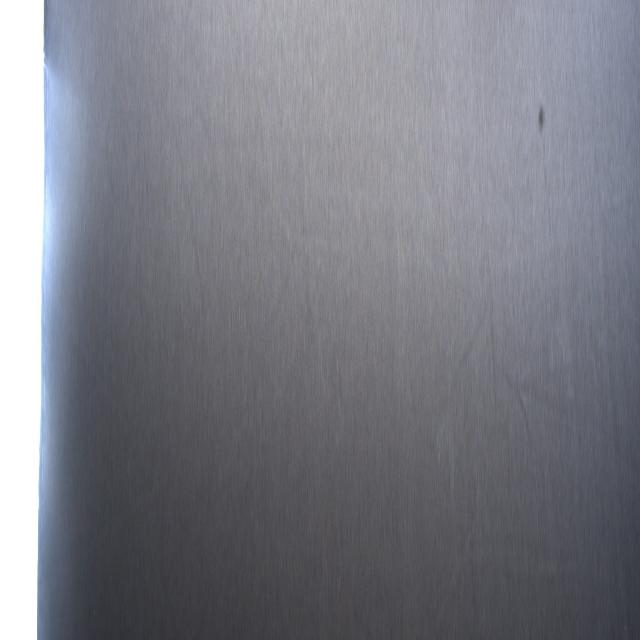crease: (443, 276, 531, 442), (606, 326, 626, 522)
